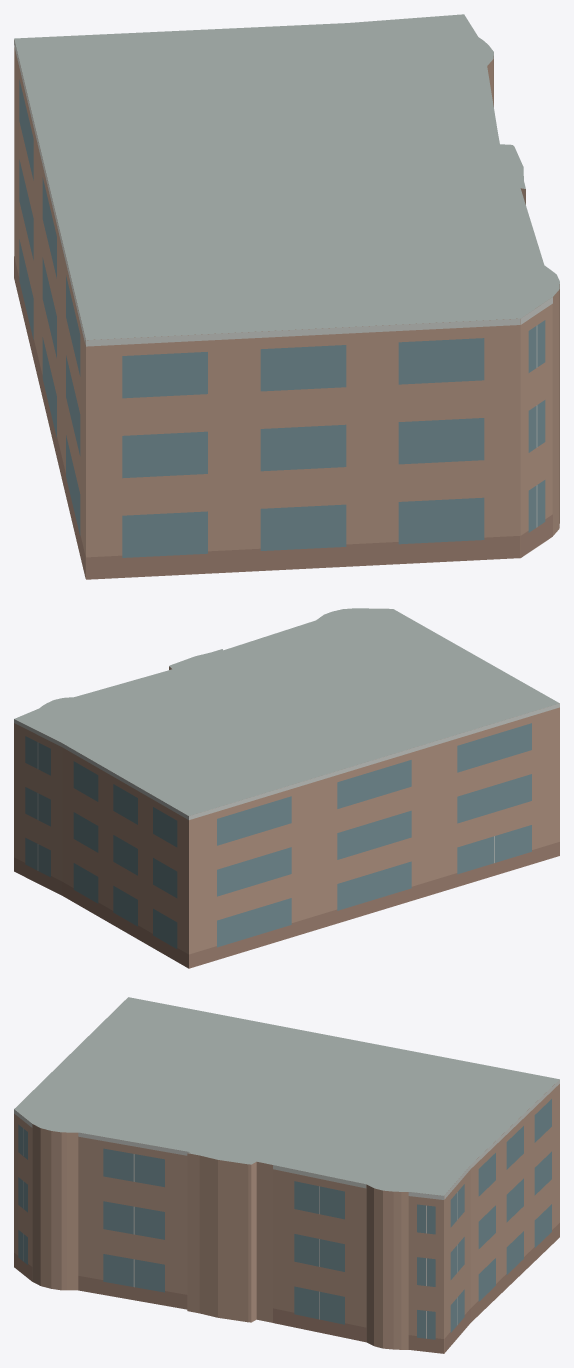
File: survey-upis-32480546.glb
3 renders of one model, top to bottom at view 1: azimuth 30°, elevation 25°; view 2: azimuth 150°, elevation 25°; view 3: azimuth 270°, elevation 25°, orthographic. The views are drawn at different scales.
Parts seen in each view (by area): view 1: survey-upis-32480546.tmp; view 2: survey-upis-32480546.tmp; view 3: survey-upis-32480546.tmp.
Boxes of the visible parts, left/top/right/bottom form: survey-upis-32480546.tmp: left=14, top=14, right=559, bottom=579; survey-upis-32480546.tmp: left=14, top=608, right=559, bottom=968; survey-upis-32480546.tmp: left=14, top=997, right=559, bottom=1353.
Bounding box in the file's own units: 24.71 × 9.15 × 28.66.
